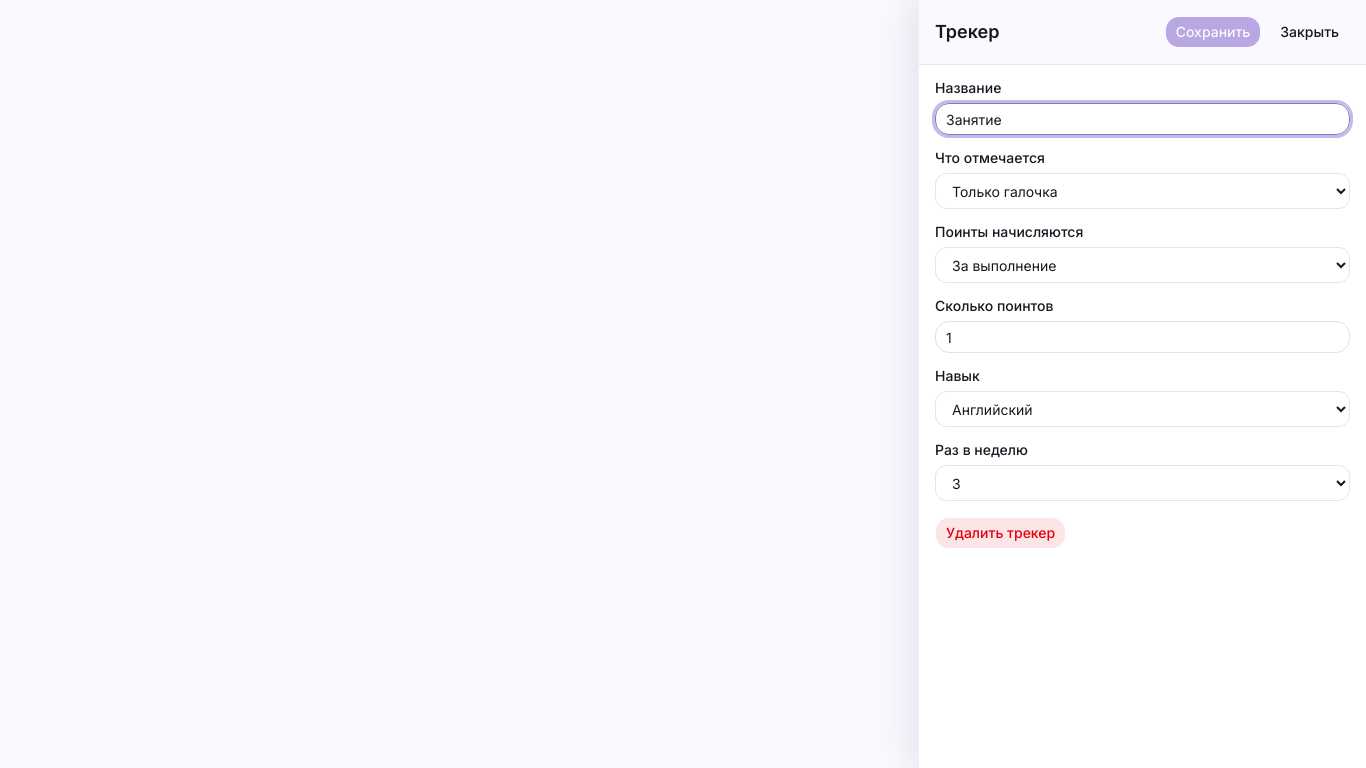
Test: TrackerDrawer › у трекера без отметок говорит, что их нет
The image size is (1366, 768).
Step 1. Click the button "Удалить трекер" → (1001, 533), box [935,517,1066,549]
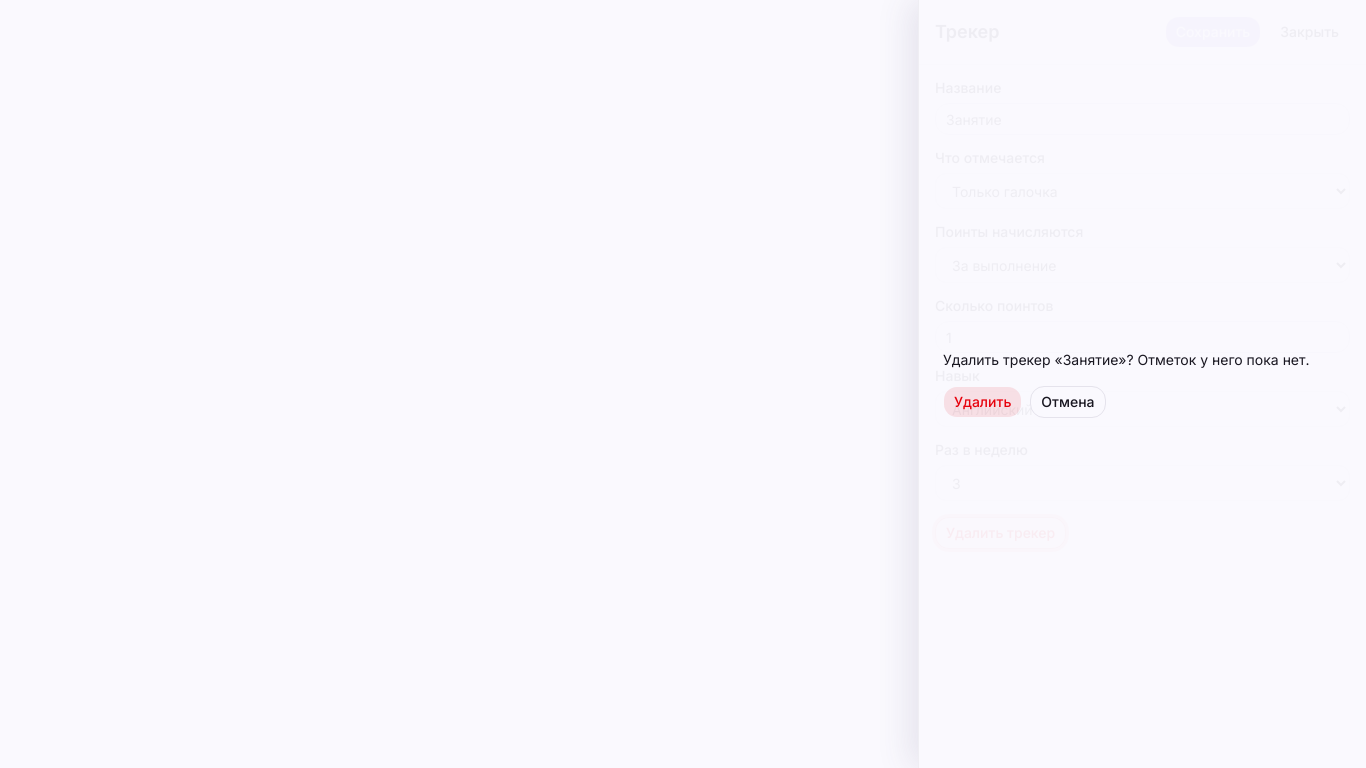
Expected: the dialog shows "Отметок у него пока нет", [1134,351,1310,368]
